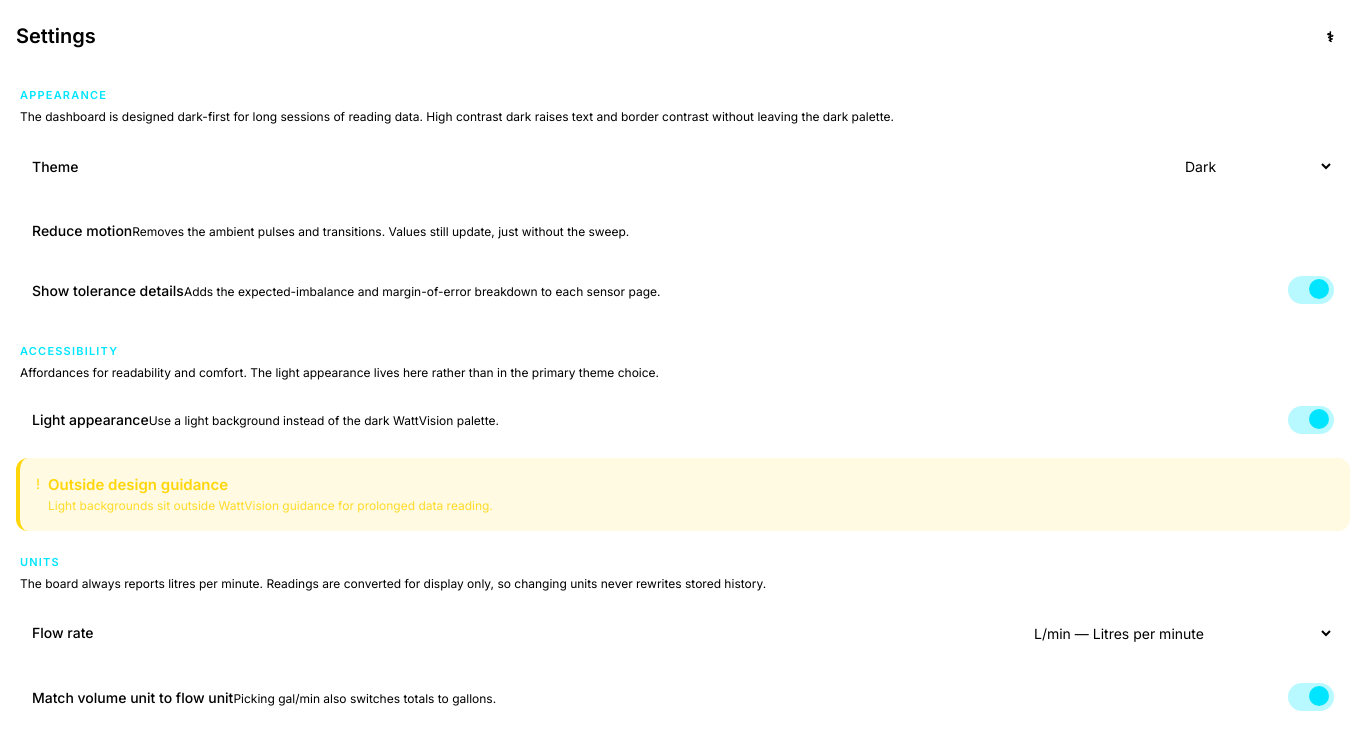
Scenario: the two controls are one appearance value (Requirement 9.6) › keeps light reachable after a round-trip through a primary option
Select "Follow system" in the dropdown labelled "Theme" at (1252, 167), box [1171,149,1334,184]
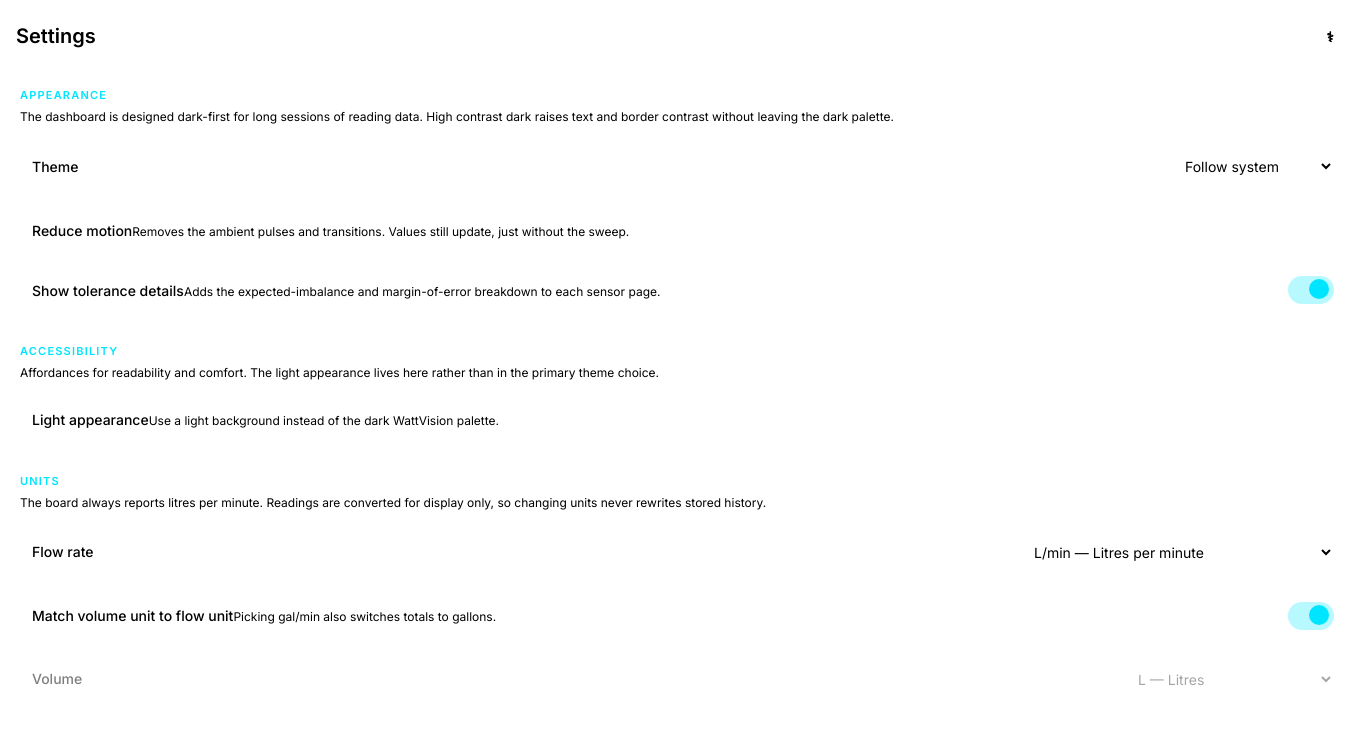
Click the switch that starts with "Light appearance".
click(90, 420)  # box [16,390,1350,450]
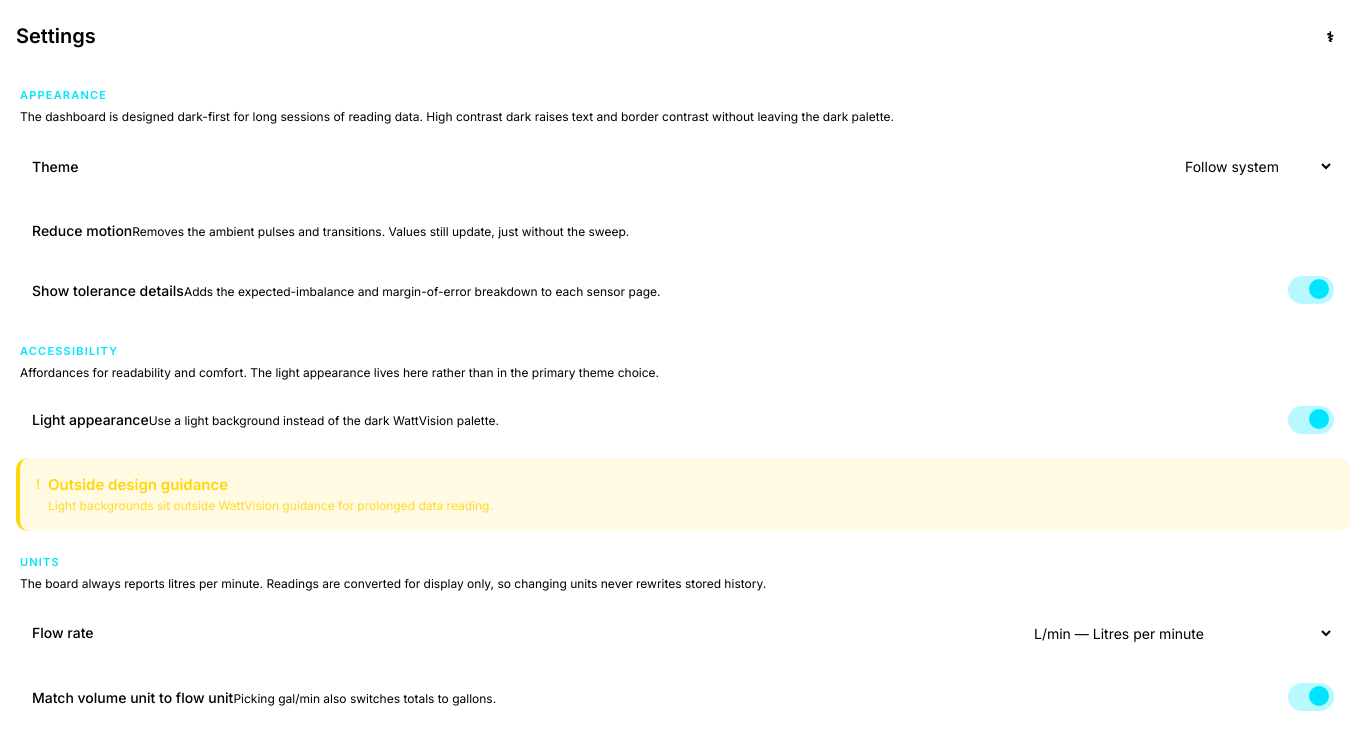
Expected: the text "Light backgrounds sit outside WattVision guidance for prolonged data reading." is shown, [48,498,493,513]
